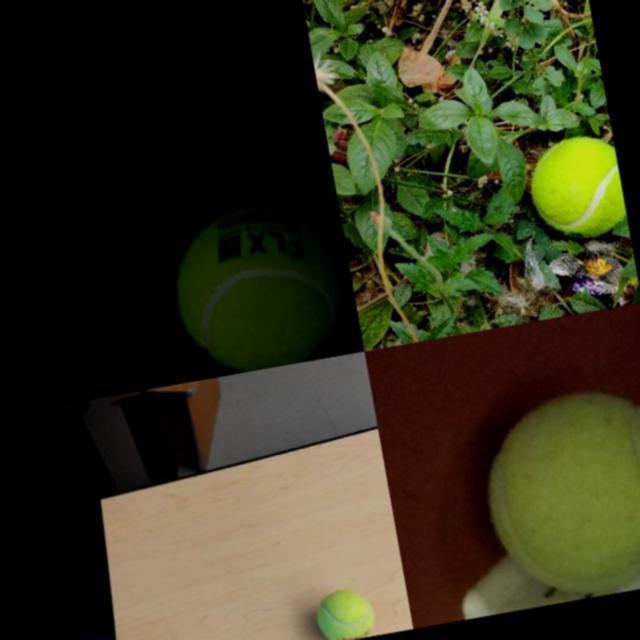tennis-ball: (466, 375, 640, 611), (160, 192, 358, 380), (522, 130, 628, 244), (310, 584, 377, 640)
